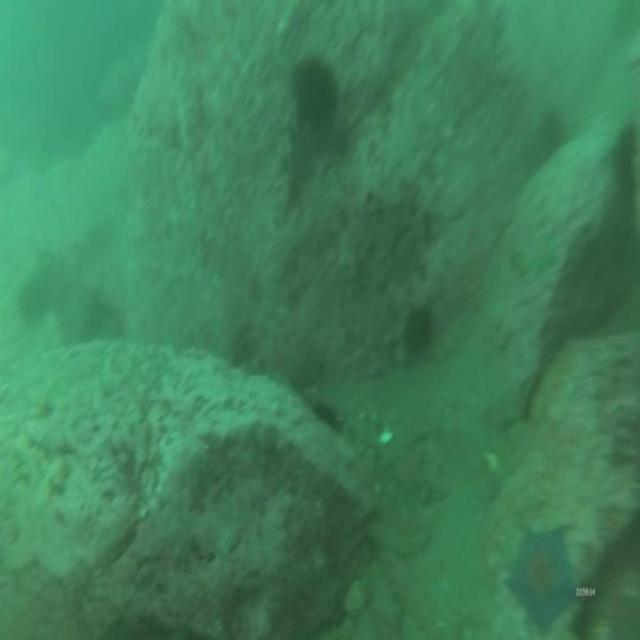echinus: (293, 62, 335, 131), (405, 310, 427, 354)
holothurian: (388, 559, 438, 640), (368, 510, 425, 562)
scallop: (346, 580, 368, 618)
starfish: (507, 528, 578, 629)
